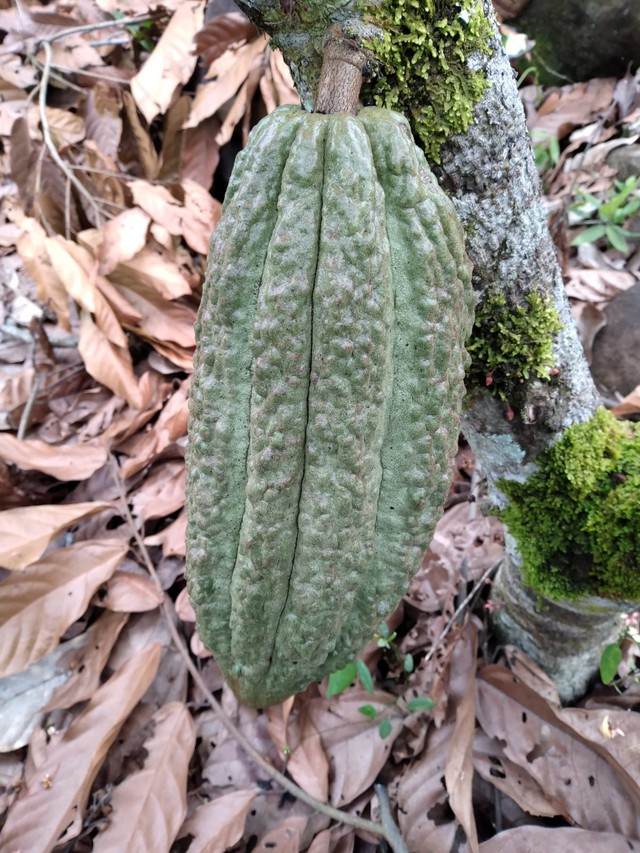Health: (169, 96, 489, 717)
